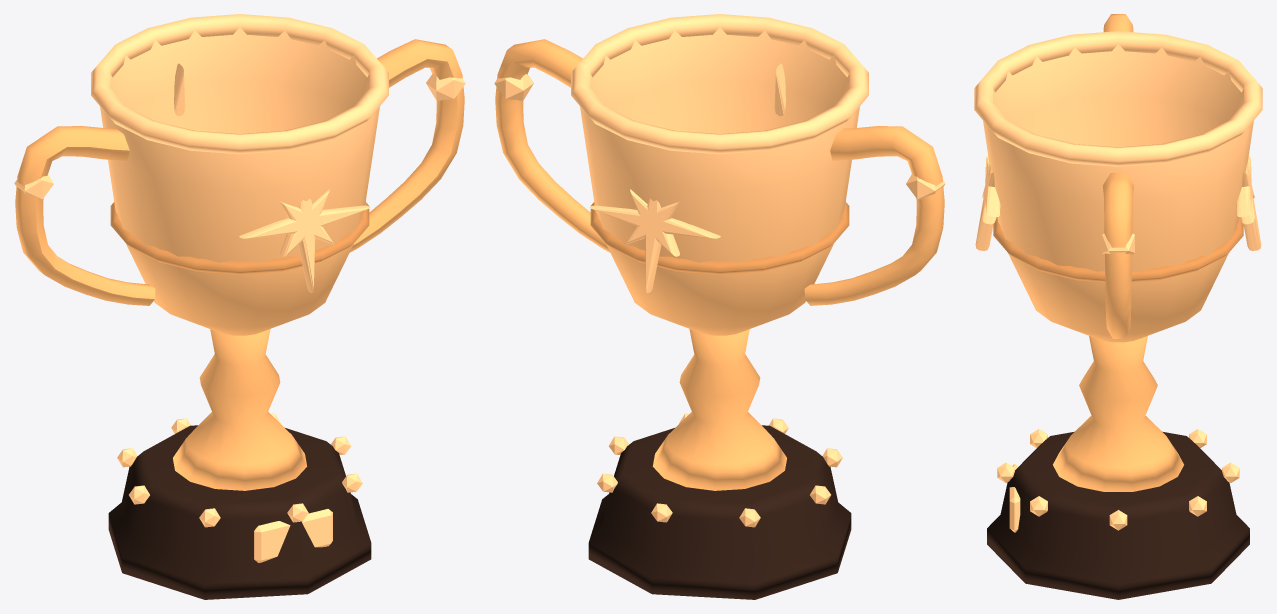
The model's file is trophy-bronze.glb.
3 views of the same model, side by side, from view 1: azimuth 30°, elevation 25°; view 2: azimuth 150°, elevation 25°; view 3: azimuth 270°, elevation 25° (orthographic). The views are drawn at different scales.
Visible parts, largest first — view 1: trophy_mesh; view 2: trophy_mesh; view 3: trophy_mesh.
Part boxes in pixels (x1=…): trophy_mesh: x1=14, y1=14, x2=465, y2=599; trophy_mesh: x1=494, y1=14, x2=945, y2=599; trophy_mesh: x1=974, y1=14, x2=1262, y2=599.
Size of the model in its own units: 0.5635 by 0.5714 by 0.3289.
